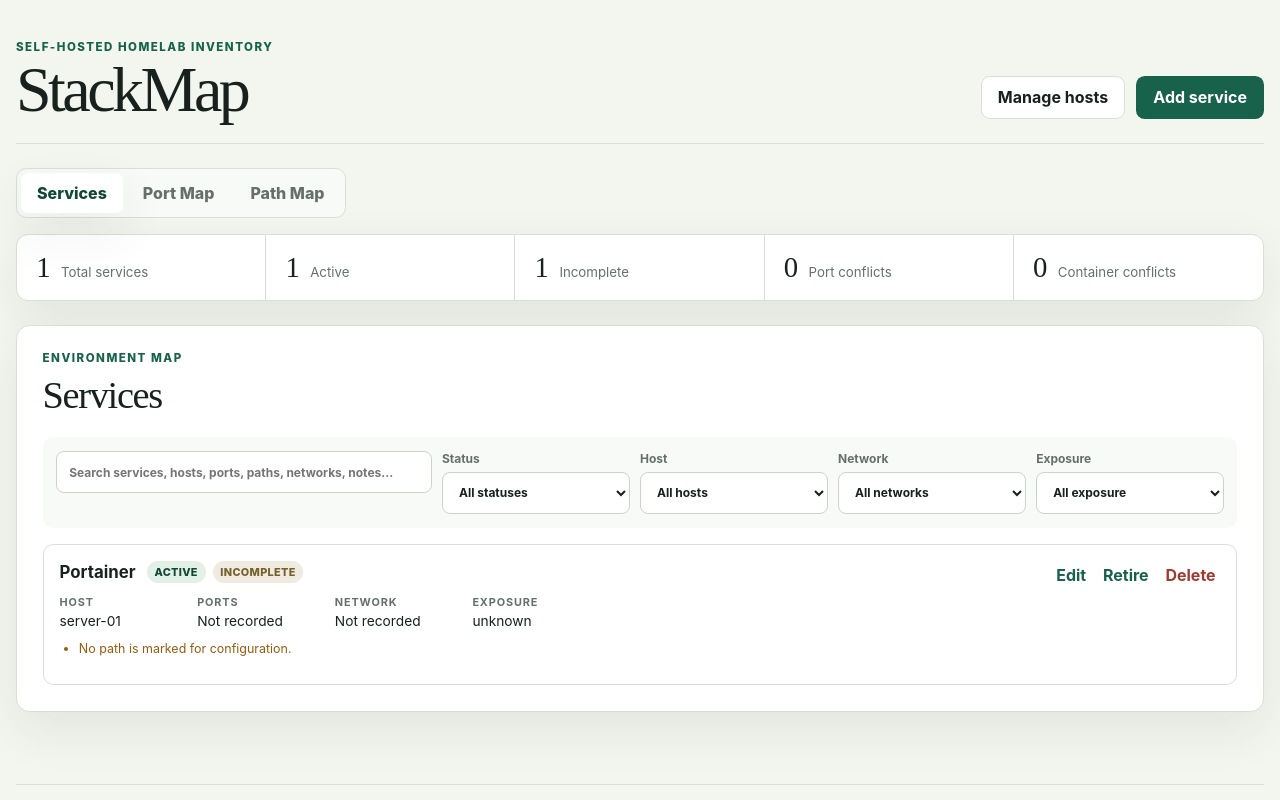
Test: StackMap service workflows › prevents deletion of a referenced host
Click the button "Manage hosts" at (1053, 97), box x1=981 y1=76 x2=1125 y2=119
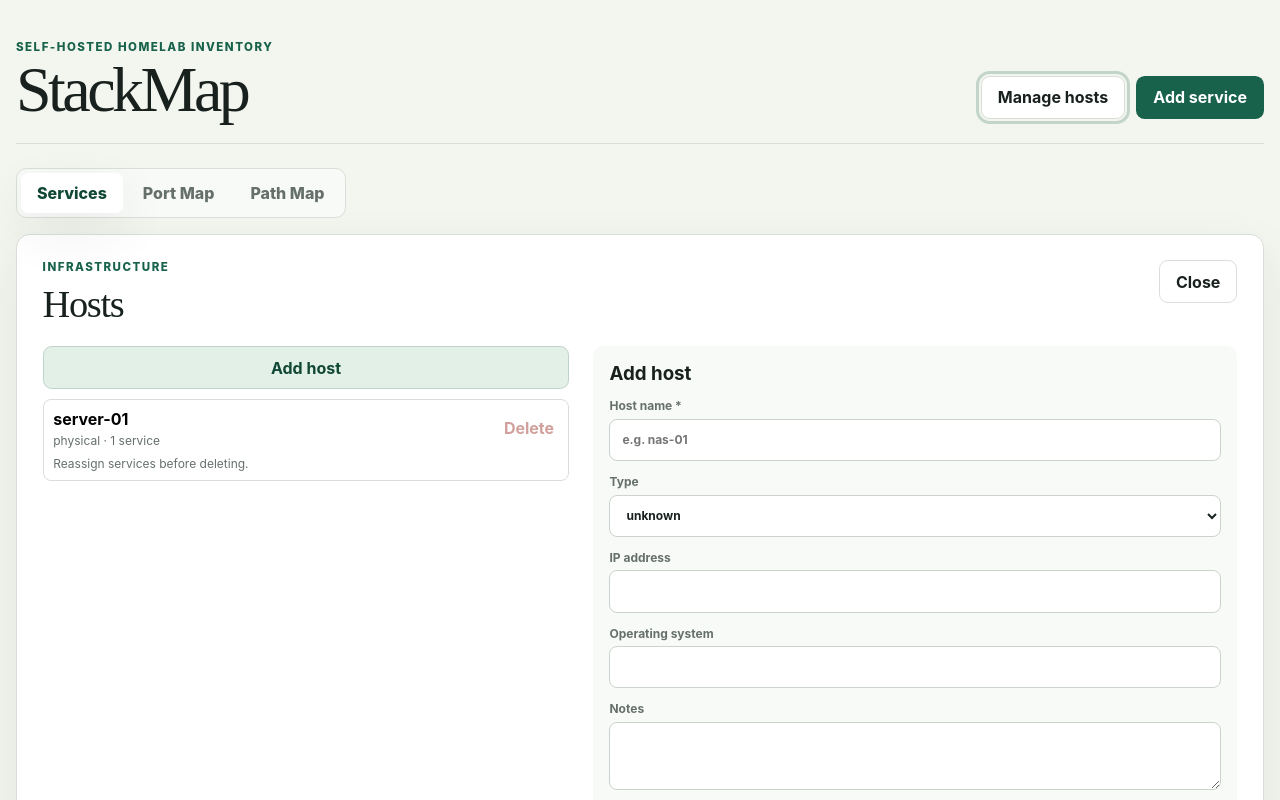
Now the element named "Edit host server-01" is shown, box x1=43 y1=399 x2=570 y2=481
Now the button with aria-label "Delete host server-01" is disabled, box x1=499 y1=414 x2=559 y2=443
Now the text "Reassign services before deleting." is shown, box x1=53 y1=456 x2=249 y2=470
